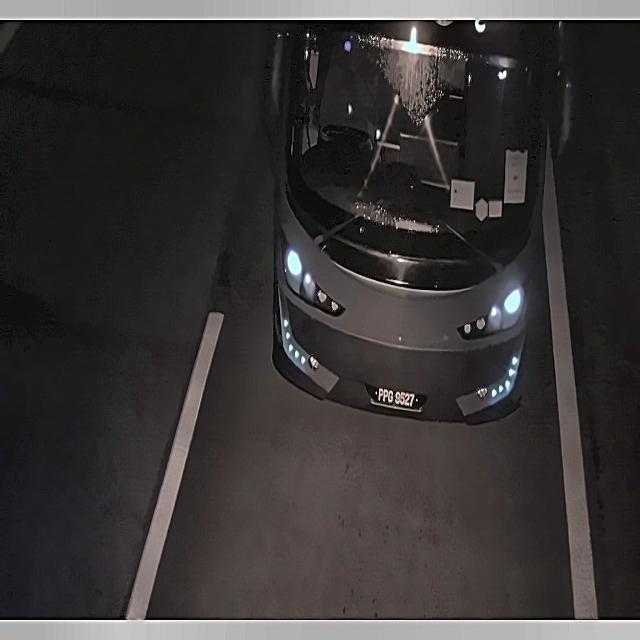car: (364, 372, 432, 422)
